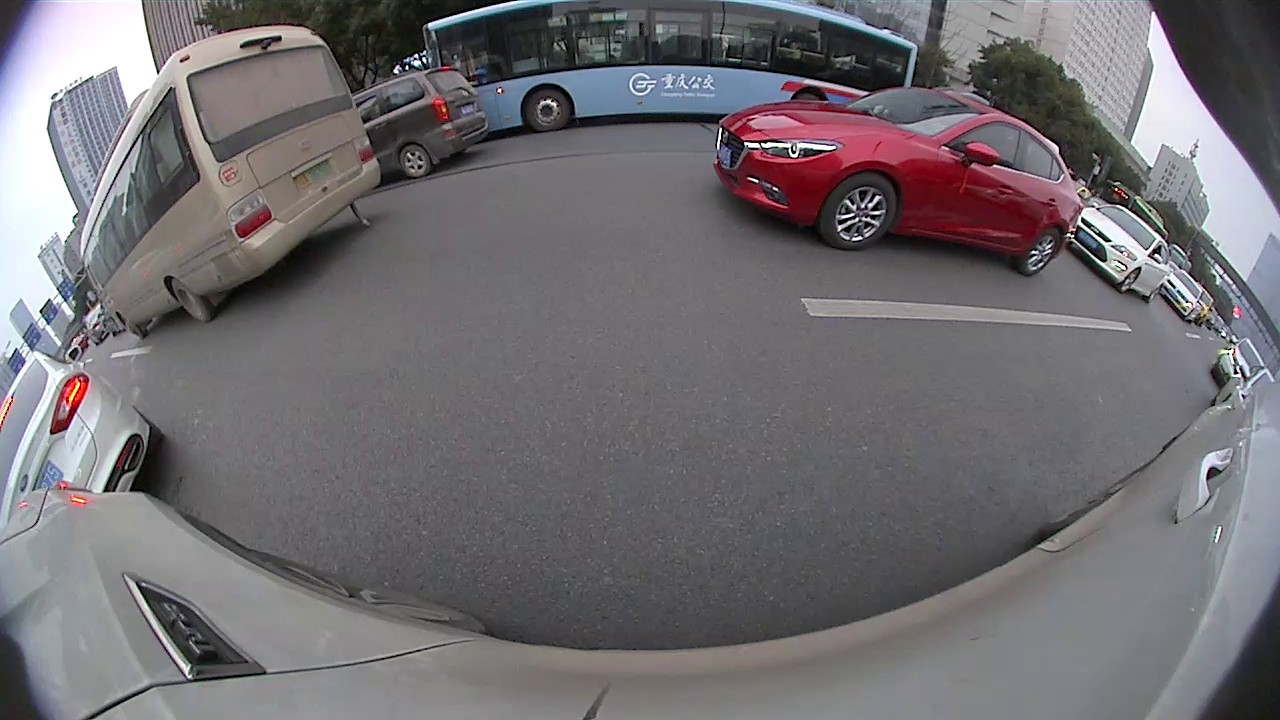bus: (80, 28, 379, 338), (423, 1, 918, 158)
car: (712, 88, 1080, 278), (1, 354, 167, 540), (354, 69, 487, 178), (1070, 203, 1165, 307)
front: (817, 171, 898, 251), (521, 85, 574, 132), (118, 317, 144, 342), (1119, 267, 1142, 293)
rear: (169, 278, 215, 323), (1025, 227, 1063, 276), (398, 144, 432, 178)
